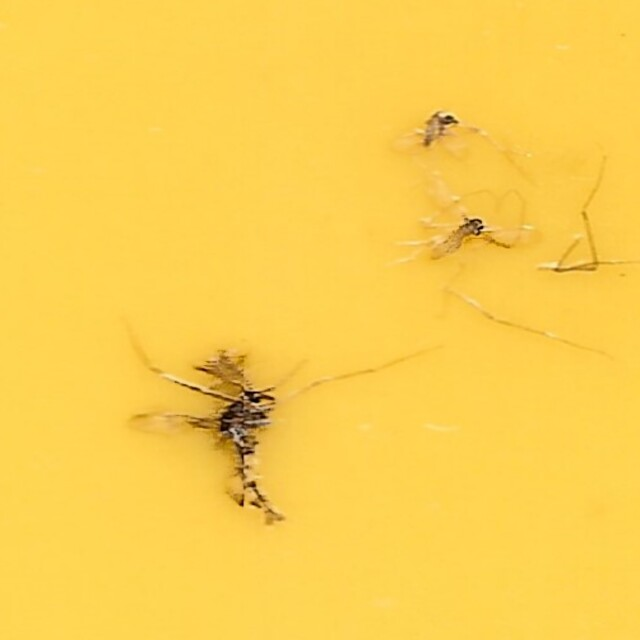Nematocera: (127, 351, 305, 534), (422, 207, 513, 265), (411, 106, 463, 150)
